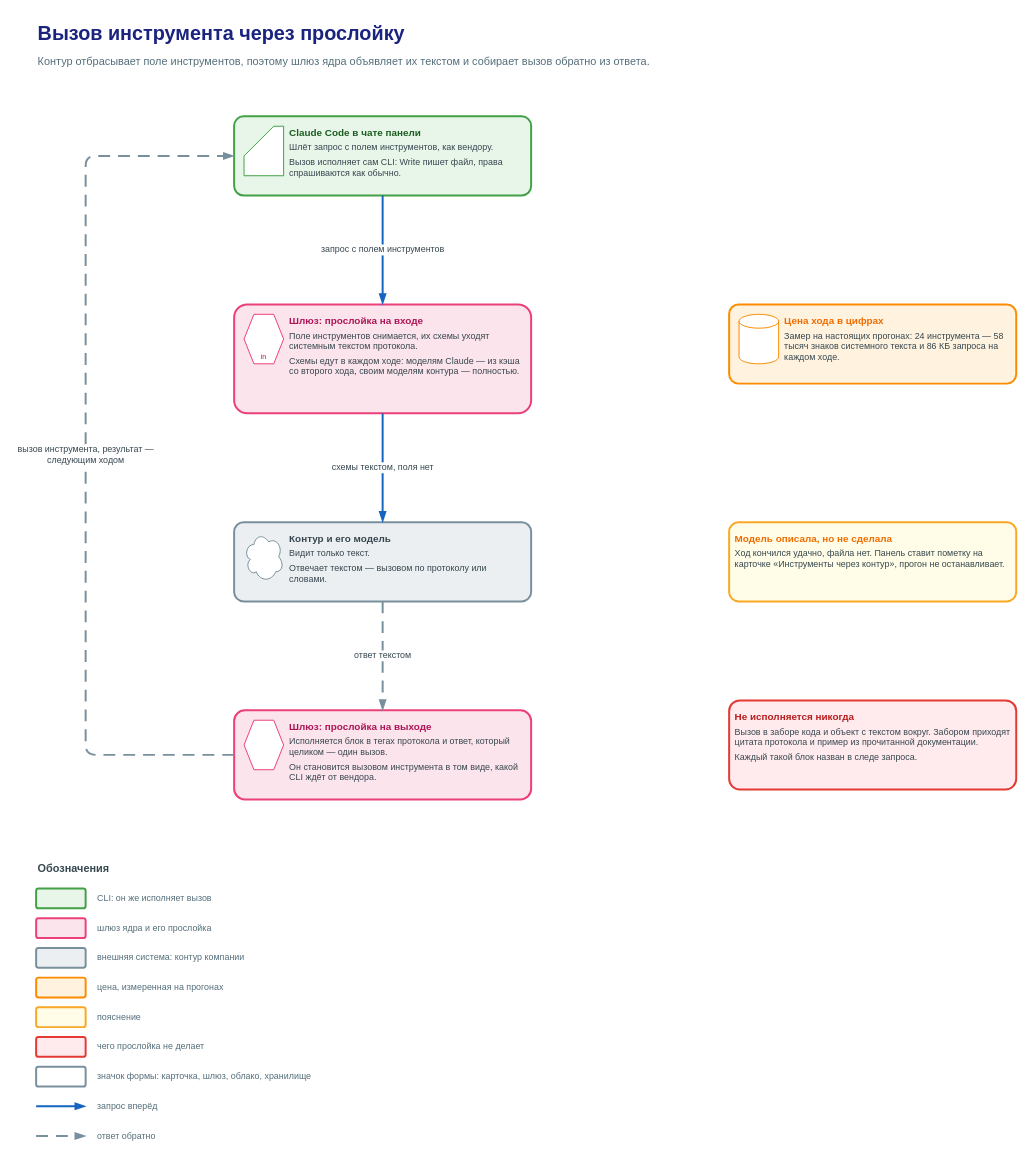
Image size: 1034x1162. Some labels were removed from this diagram. The shapes that lost their labels are listed below. From the top down, each one's centre as x and y in pixels, then its label:
the point at 263,150: CLI
the point at 758,338: KB
the point at 263,556: LLM
the point at 263,744: out
